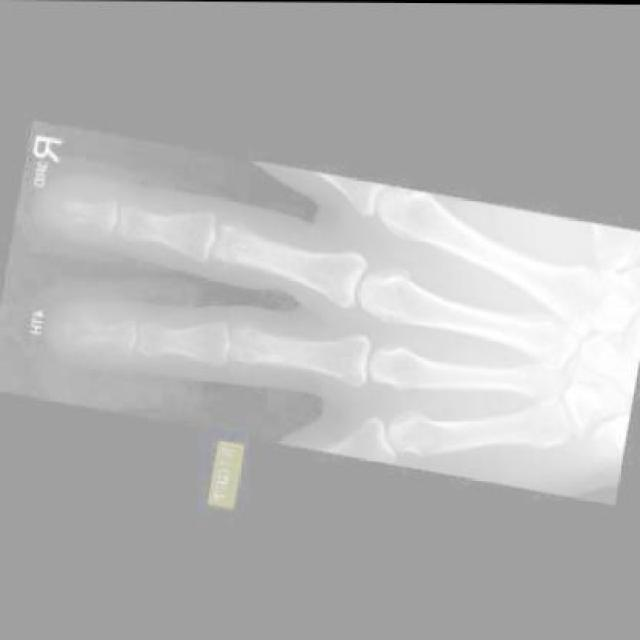Fracture: (49, 302, 108, 356), (37, 183, 96, 233)
